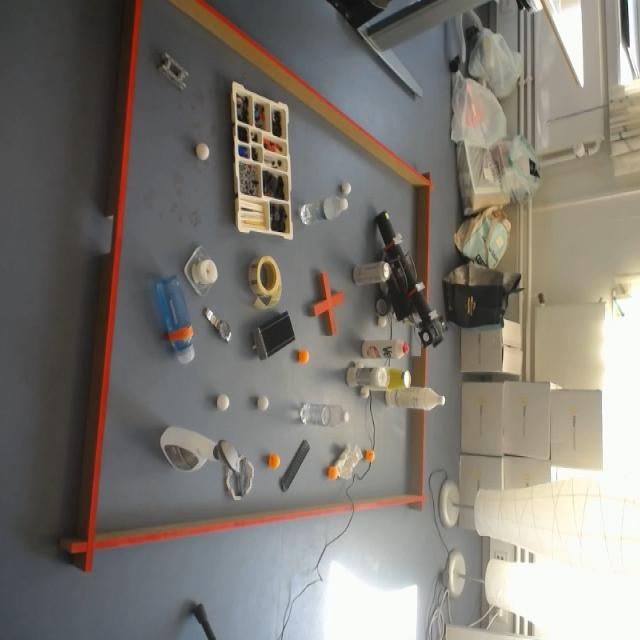orange: (269, 454, 281, 470), (327, 468, 338, 482), (299, 351, 311, 363), (364, 448, 375, 461)
robot: (373, 210, 449, 345)
robot-front: (383, 212, 391, 221)
white: (197, 142, 210, 160), (257, 395, 269, 411), (219, 396, 231, 411), (377, 317, 389, 330), (373, 393, 384, 406), (341, 180, 351, 194)
